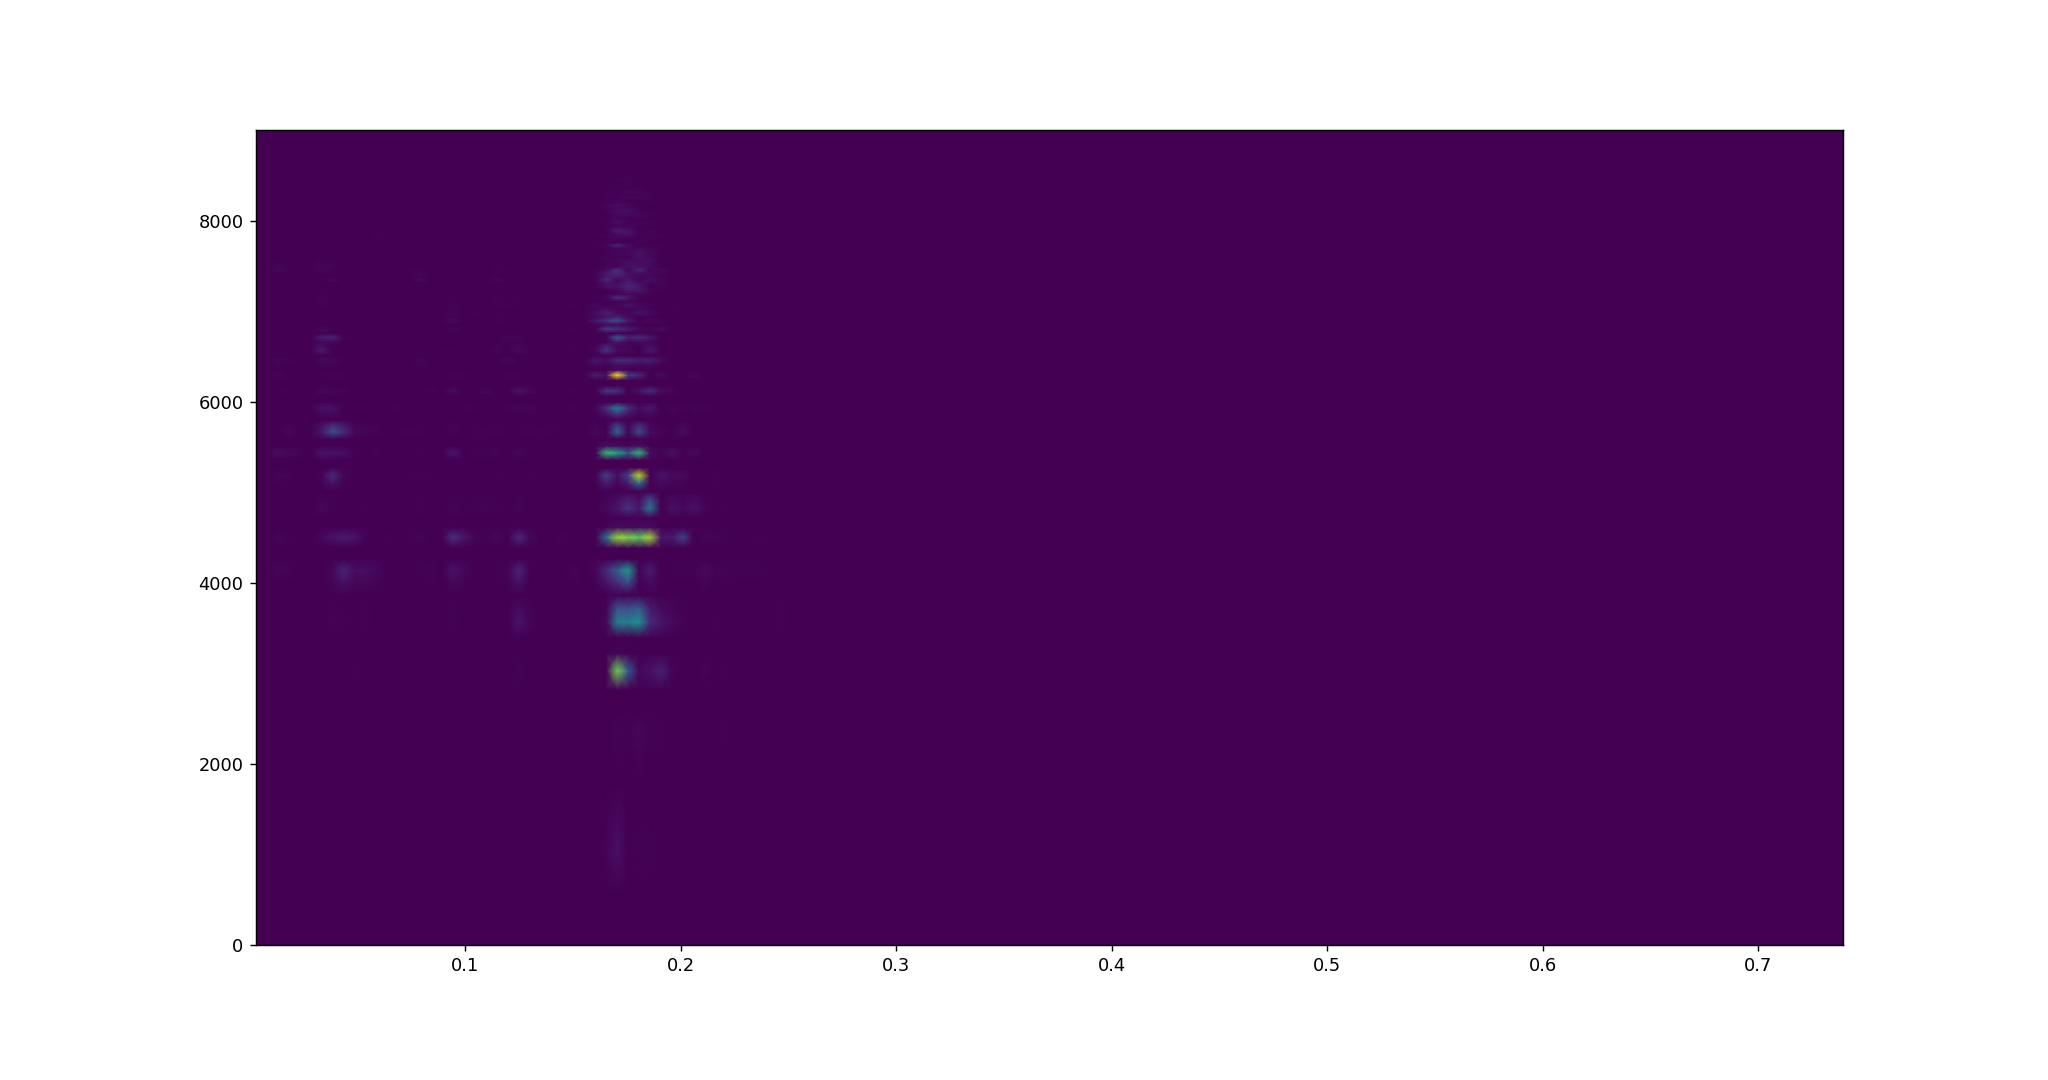M762GL: (310, 228, 704, 687)
